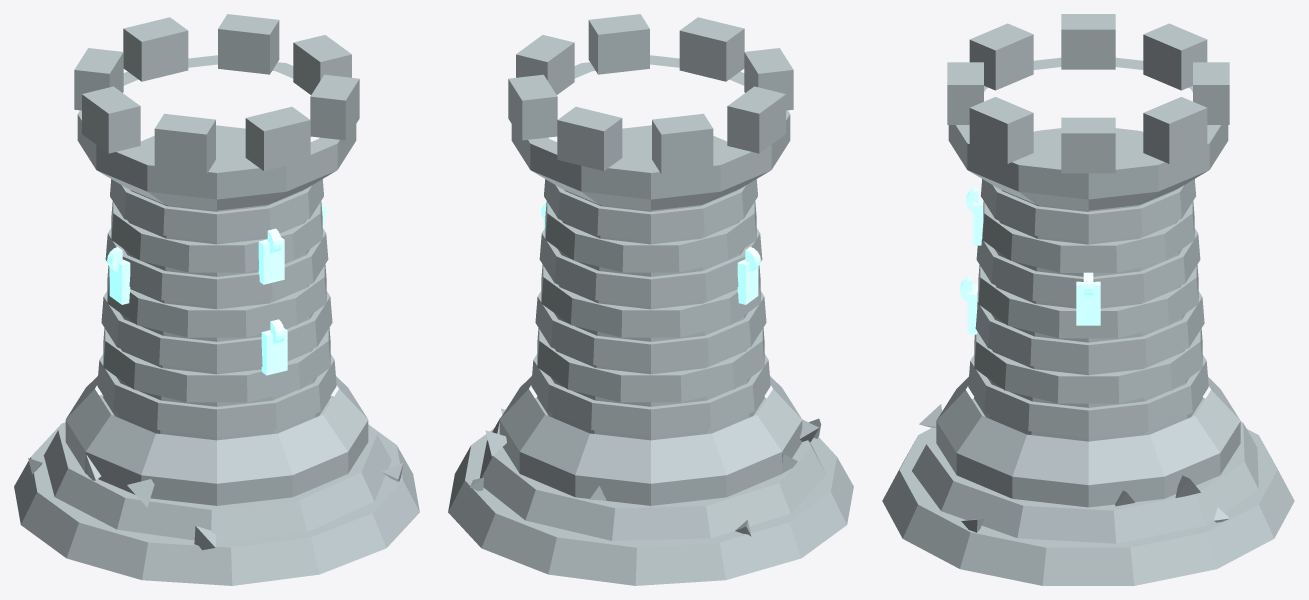
The model's file is rook.glb.
3 views of the same model, side by side, from view 1: azimuth 30°, elevation 25°; view 2: azimuth 150°, elevation 25°; view 3: azimuth 270°, elevation 25° (orthographic).
Parts seen in each view (by area): view 1: body; view 2: body; view 3: body.
Boxes of the visible parts, x1,y1,x2,y2 form: body: [14, 14, 419, 585]; body: [448, 14, 853, 585]; body: [882, 14, 1294, 585].
Size of the model in its own units: 0.8189 by 0.96 by 0.84.
